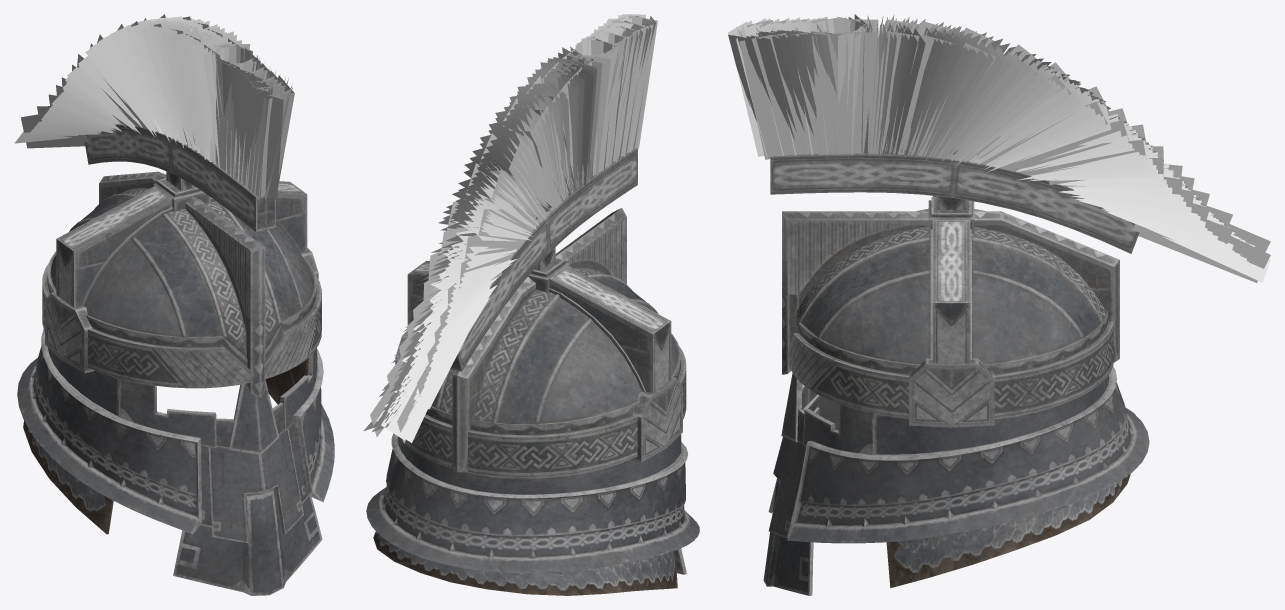
Rendered from sk_dwarf_erebor_helmet_plate_legionary_a.dae.
3 views of the same model, side by side, from view 1: azimuth 30°, elevation 25°; view 2: azimuth 150°, elevation 25°; view 3: azimuth 270°, elevation 25° (orthographic). The views are drawn at different scales.
Visible parts, largest first — view 1: sk_dwarf_erebor_helmet_plate_legionary_a; view 2: sk_dwarf_erebor_helmet_plate_legionary_a; view 3: sk_dwarf_erebor_helmet_plate_legionary_a.
Boxes of the visible parts, left/top/right/bottom form: sk_dwarf_erebor_helmet_plate_legionary_a: left=14, top=14, right=334, bottom=595; sk_dwarf_erebor_helmet_plate_legionary_a: left=363, top=14, right=699, bottom=595; sk_dwarf_erebor_helmet_plate_legionary_a: left=728, top=14, right=1270, bottom=595.
Size of the model in its own units: 0.2865 by 0.4755 by 0.537.
Materials: 2 (2 with a texture image).
